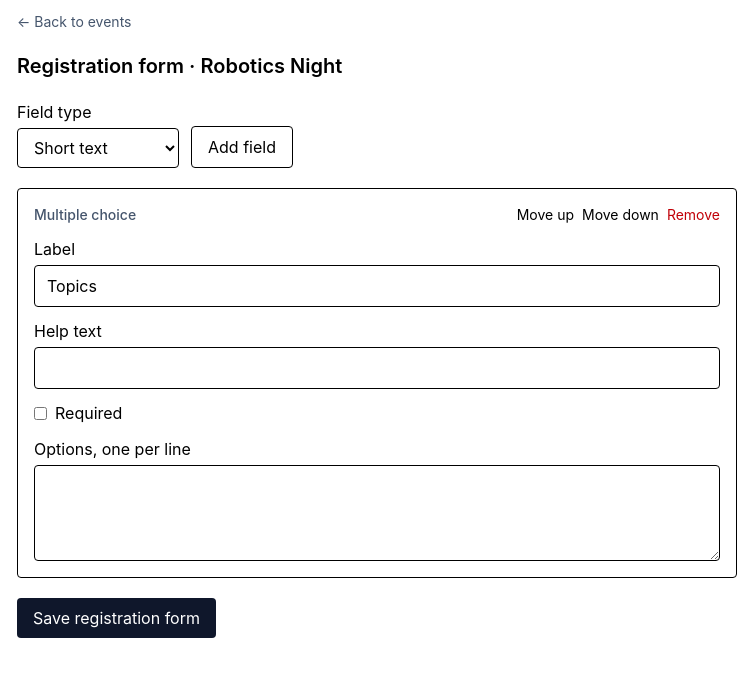
Test: OfficerRegistrationFormPage › refuses an empty choice list before sending it
The image size is (754, 700).
Step 1. Click the button "Save registration form" → x=116, y=618, box top-left (17, 598), bottom-right (216, 638)
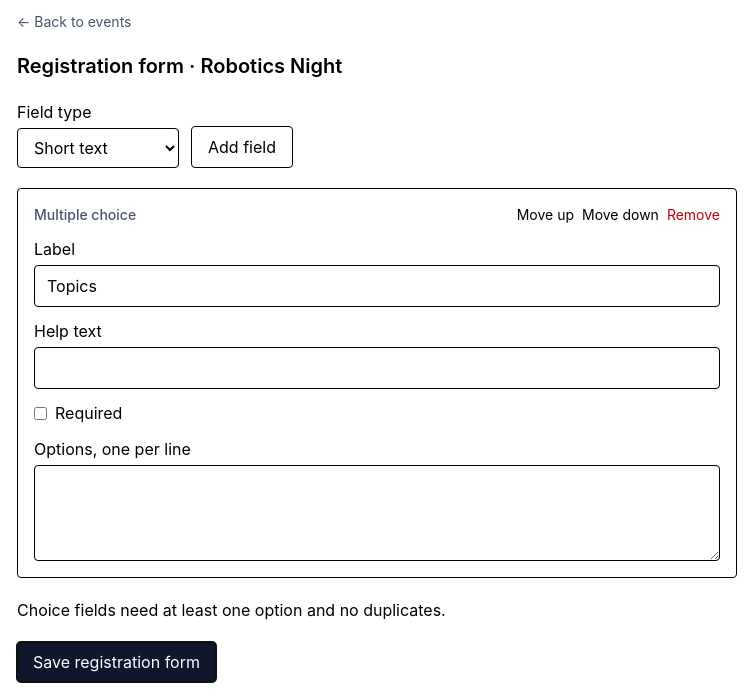
Check: the message reads "Choice fields need at least one option and no duplicates.", box top-left (17, 600), bottom-right (446, 620)
